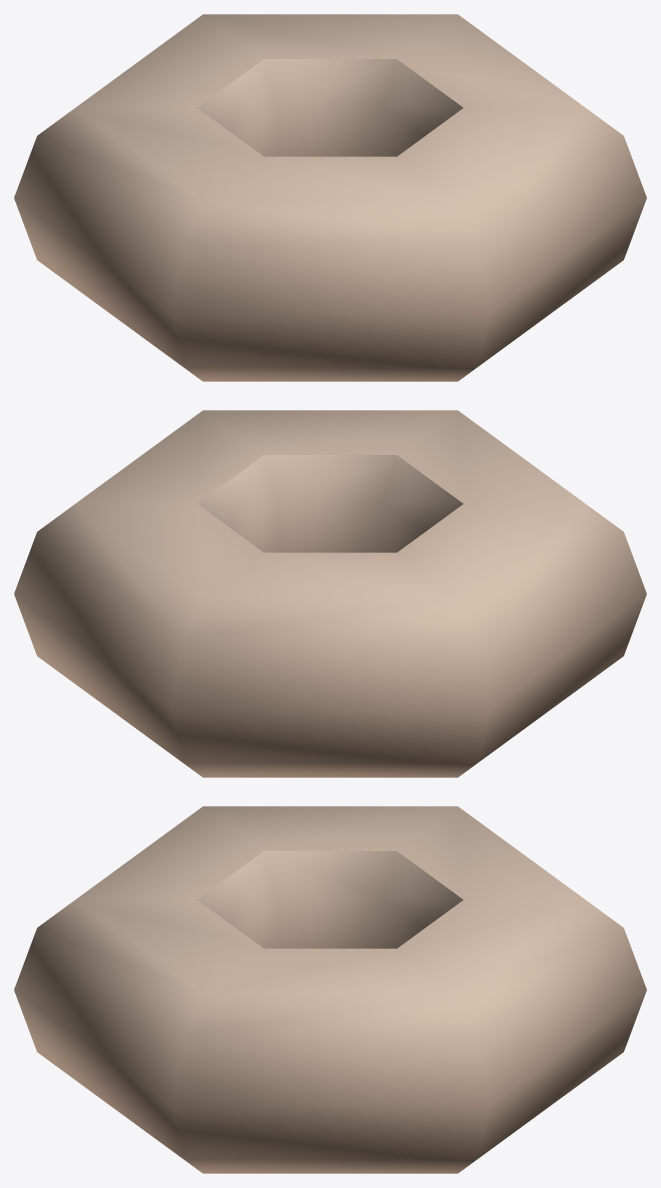
The model's file is donut.glb.
3 views of the same model, one above another, from view 1: azimuth 30°, elevation 25°; view 2: azimuth 150°, elevation 25°; view 3: azimuth 270°, elevation 25° (orthographic).
Visible parts, largest first — view 1: donut; view 2: donut; view 3: donut.
Boxes of the visible parts, <box> form: donut: <box>14,14,646,381</box>; donut: <box>14,410,646,777</box>; donut: <box>14,806,646,1173</box>.
Size of the model in its own units: 0.2451 by 0.0889 by 0.283.
